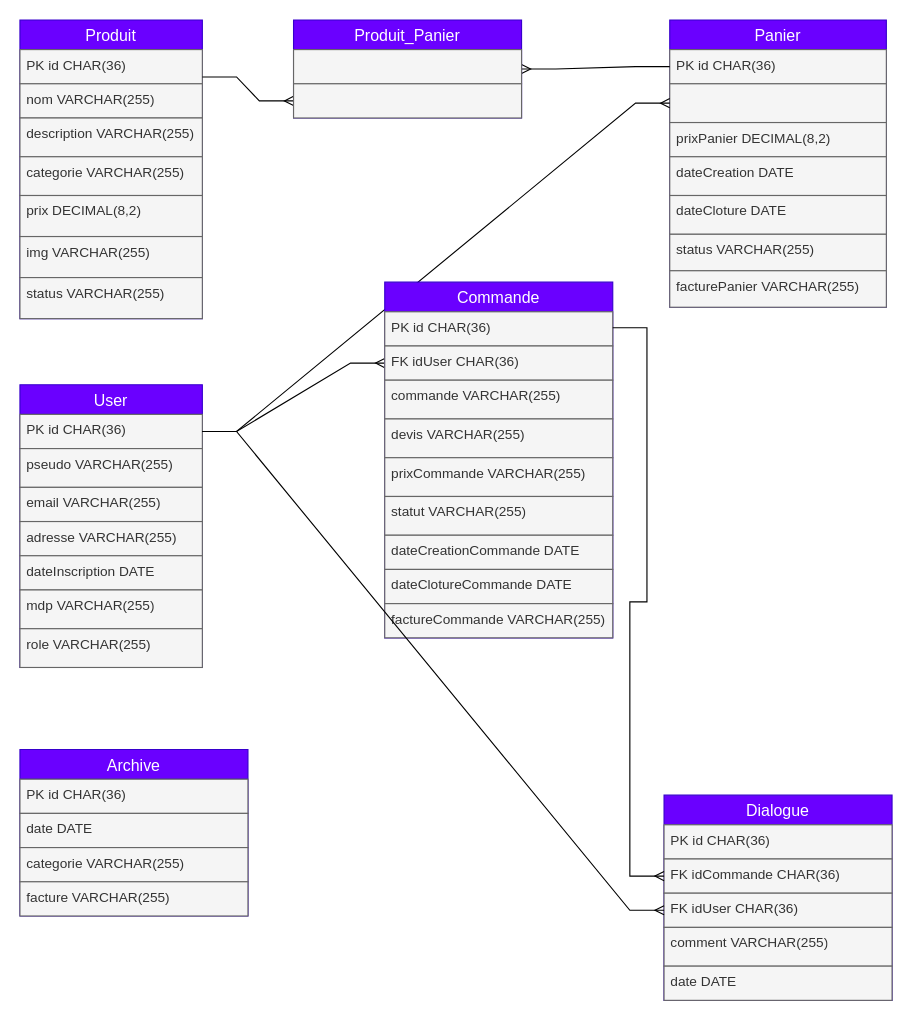
This 912x1024 diagram has some shape labels left out. Here are the shapes that lost their labels. From the top down, the centre of each, then its label:
At (x=407, y=66): "FK idPanier CHAR(36)".
At (x=407, y=100): "FK idProduit CHAR(36)".
At (x=777, y=103): "FK idUserPanier CHAR(36)".
